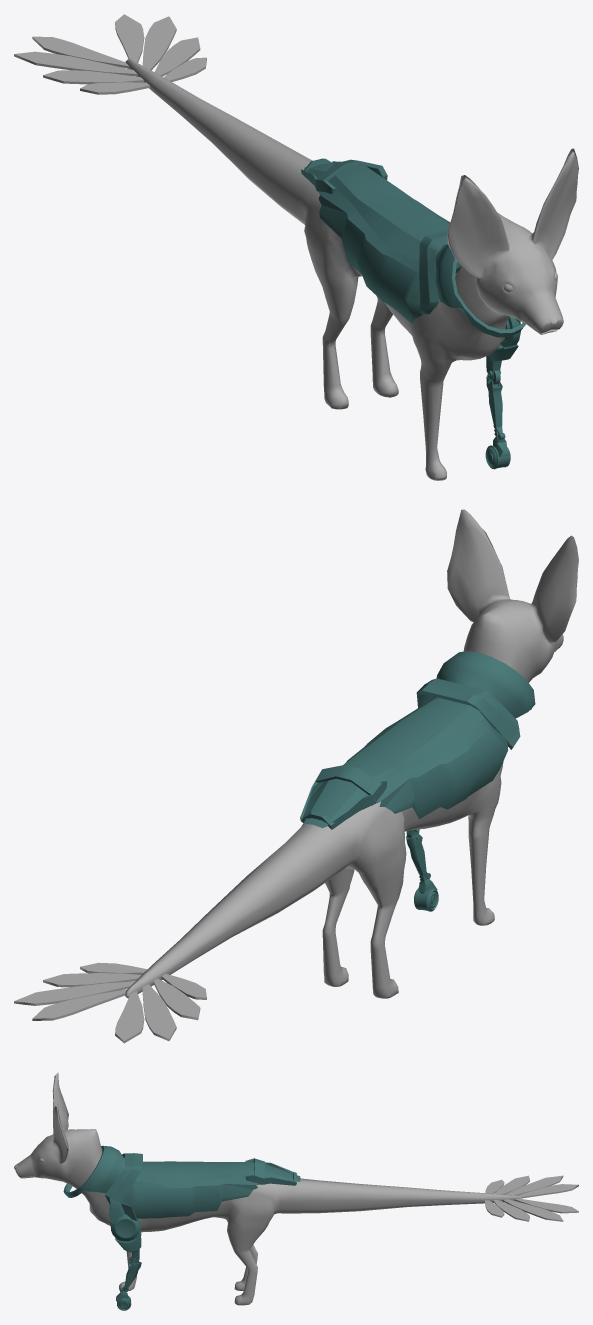
File: Critter.fbx
3 renders of one model, top to bottom at view 1: azimuth 30°, elevation 25°; view 2: azimuth 150°, elevation 25°; view 3: azimuth 270°, elevation 25°, orthographic. The views are drawn at different scales.
Parts seen in each view (by area): view 1: critter_mesh, base_plate, neck_brace, shoulder_plate, back_clasp, lower_leg2, upper_leg; view 2: critter_mesh, base_plate, neck_brace, shoulder_plate, back_clasp, lower_leg2; view 3: critter_mesh, base_plate, neck_brace, shoulder_plate, upper_leg, back_clasp, lower_leg2.
Boxes of the visible parts, x1,y1,x2,y2 form: critter_mesh: (14,14,578,480); base_plate: (304,163,461,323); neck_brace: (435,244,525,337); shoulder_plate: (419,230,520,322); back_clasp: (301,158,387,194); lower_leg2: (486,375,509,456); upper_leg: (486,316,520,379); critter_mesh: (14,509,578,1043); base_plate: (304,697,507,828); neck_brace: (435,651,535,718); shoulder_plate: (416,678,520,749); back_clasp: (300,765,387,829); lower_leg2: (406,833,437,893); critter_mesh: (14,1072,578,1305); base_plate: (121,1161,300,1218); neck_brace: (63,1145,125,1197); shoulder_plate: (105,1153,142,1224); upper_leg: (110,1214,141,1262); back_clasp: (245,1158,296,1185); lower_leg2: (116,1261,141,1301).
Size of the model in its own units: 6.01 by 13.14 by 31.95.
